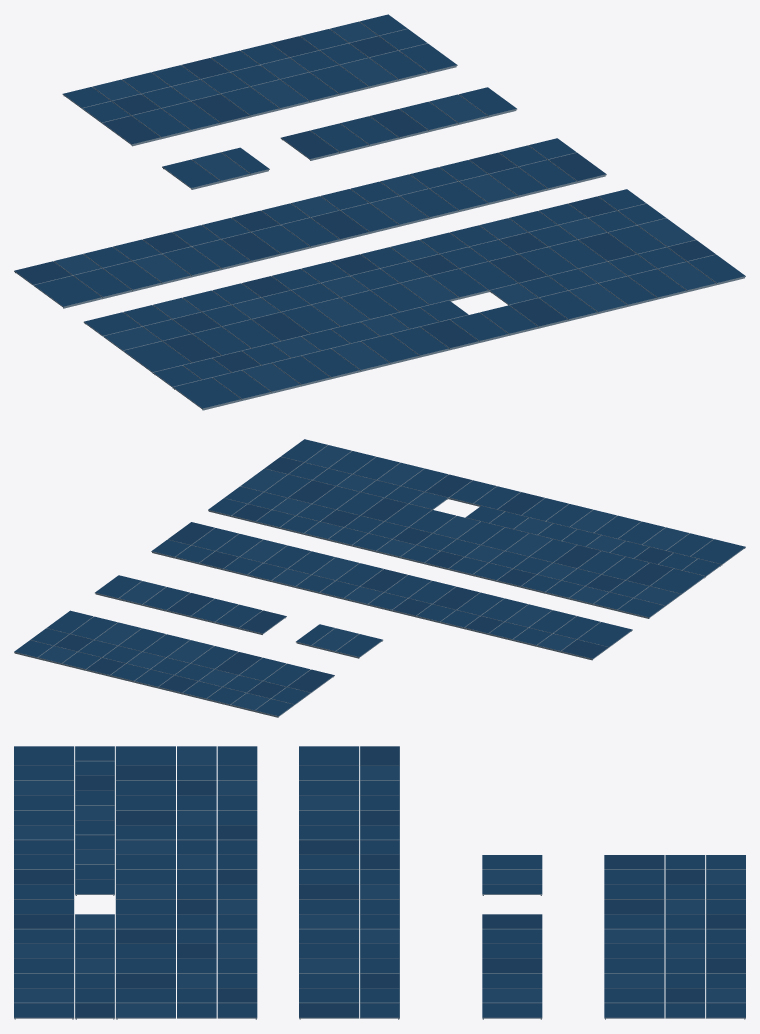
File: SM_MPRSU_SolarBank_00_0.fbx
3 renders of one model, top to bottom at view 1: azimuth 30°, elevation 25°; view 2: azimuth 150°, elevation 25°; view 3: azimuth 270°, elevation 25°, orthographic. The views are drawn at different scales.
Parts seen in each view (by area): view 1: SM_MPRSU_SolarBank_00_0; view 2: SM_MPRSU_SolarBank_00_0; view 3: SM_MPRSU_SolarBank_00_0.
Boxes of the visible parts, x1,y1,x2,y2 form: SM_MPRSU_SolarBank_00_0: (14, 14, 745, 410); SM_MPRSU_SolarBank_00_0: (14, 439, 745, 717); SM_MPRSU_SolarBank_00_0: (14, 746, 745, 1019).
Size of the model in its own units: 6152 by 7012 by 24.6.
